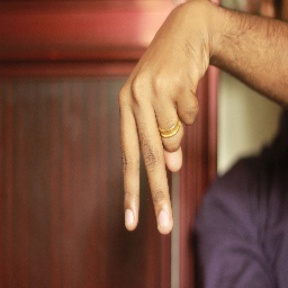Y: (114, 65, 202, 236)
